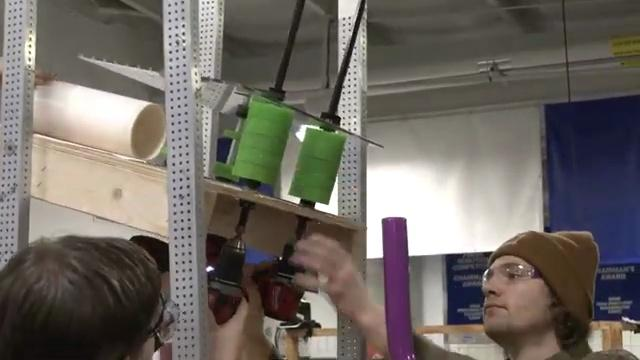CORAL: (31, 77, 166, 161)
